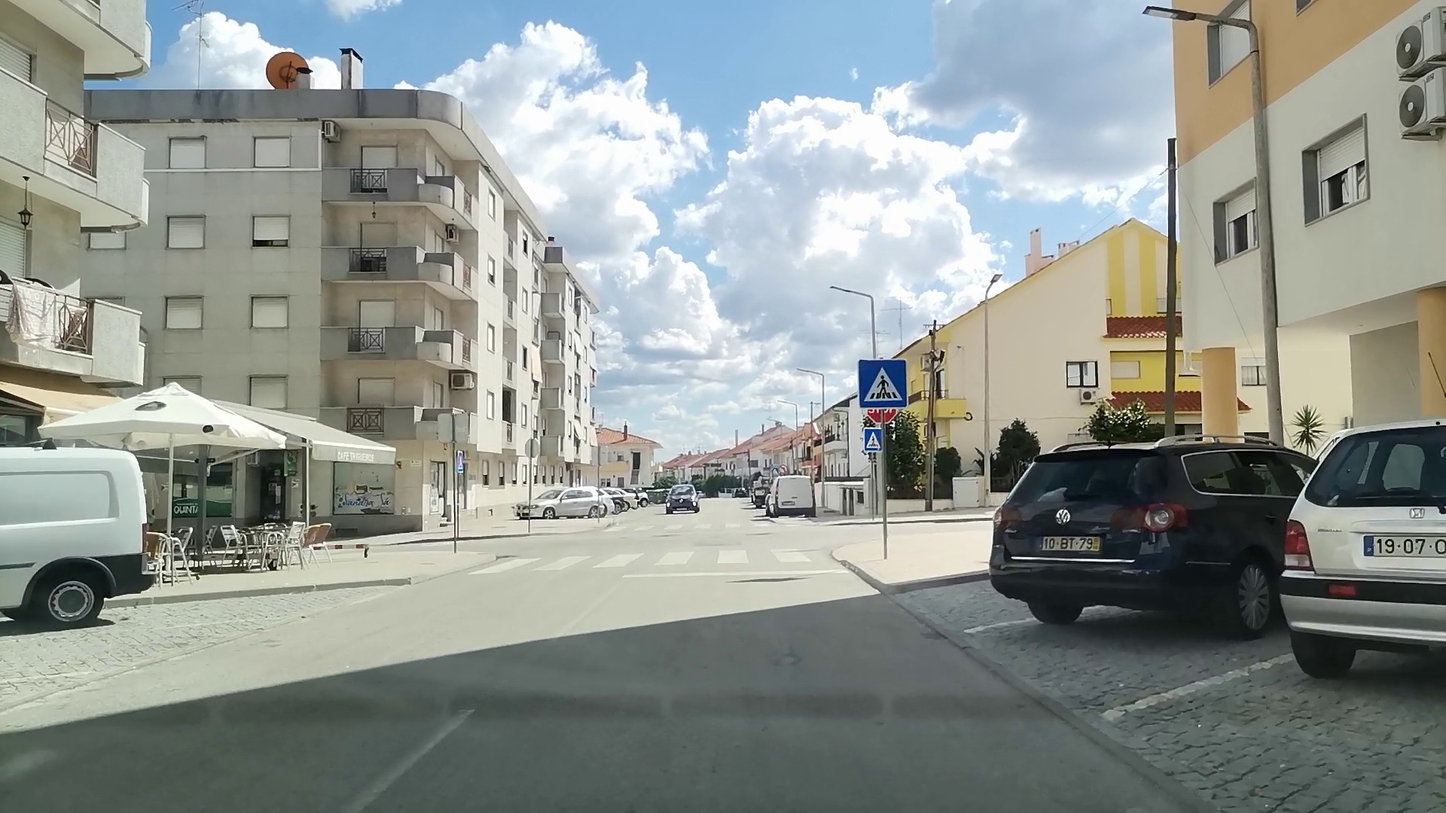Stairs: (470, 546, 816, 573)
